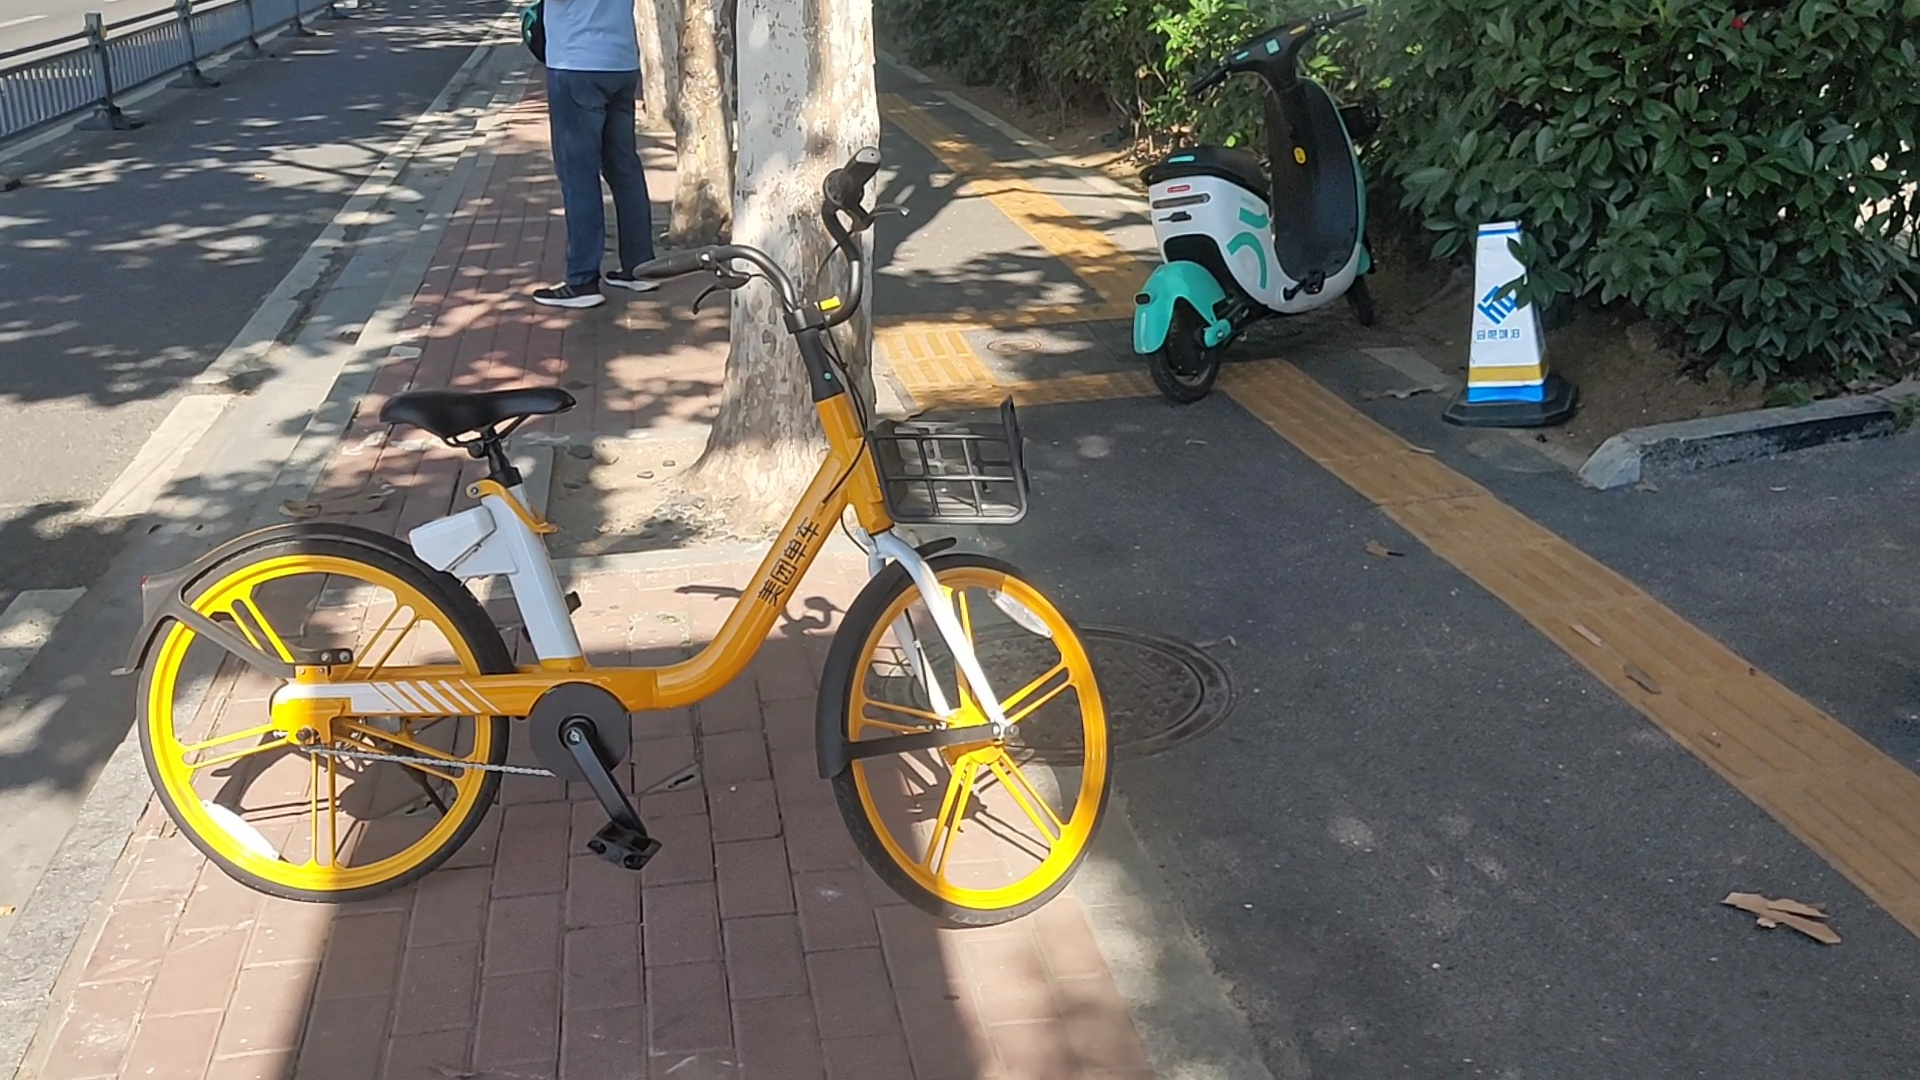non-vehicle: (137, 160, 1117, 942), (1114, 1, 1386, 411)
